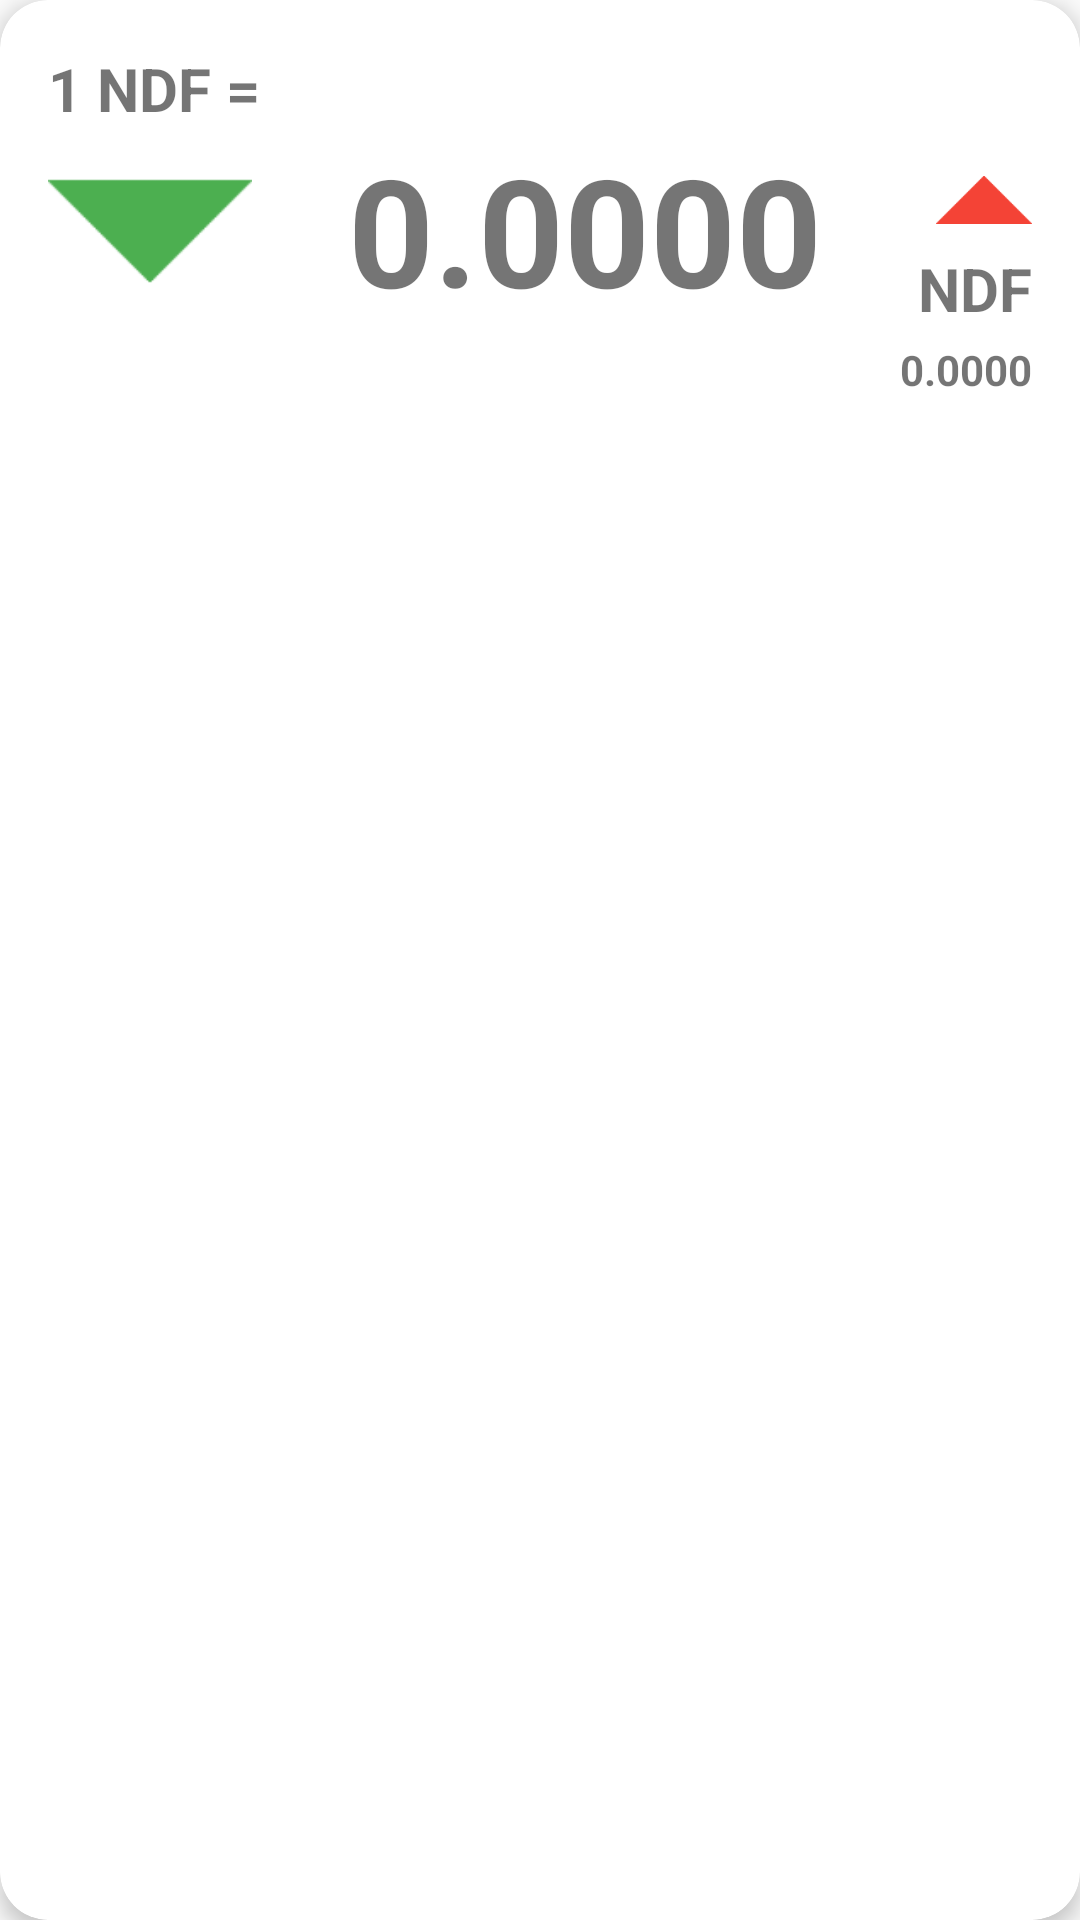

Screen size 1080px×1920px. Icon name, then its center in pixels as point (x, y):
arrow drop down: point (150, 231)
